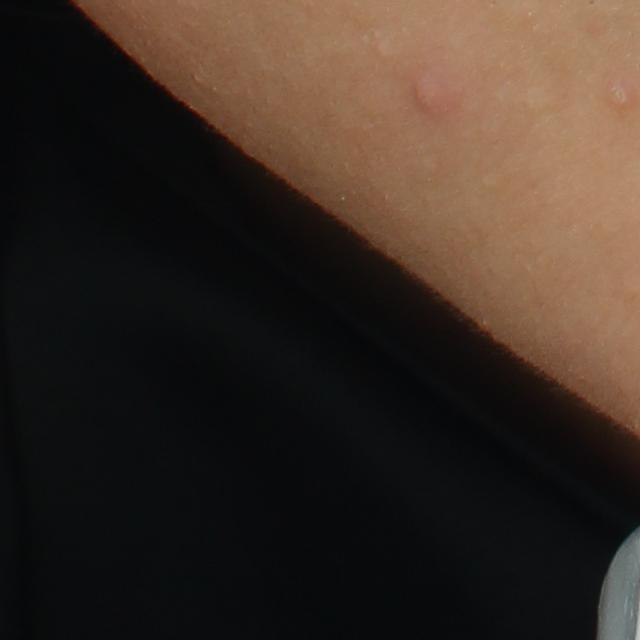comedo: (606, 80, 633, 111), (371, 41, 394, 64)
papule: (409, 75, 449, 115)
